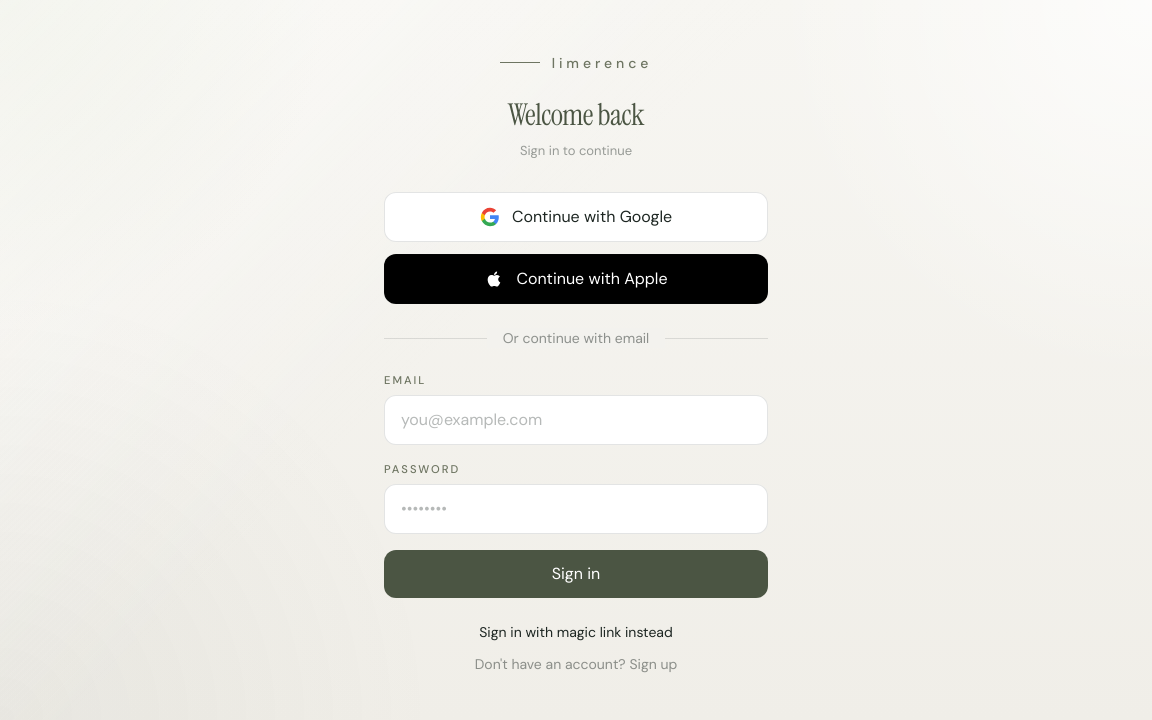
Scenario: LoginPage › shows password entry in sign-up mode
This screenshot has width=1152, height=720.
Click the button "Sign up": (653, 664) [630, 654, 677, 674]
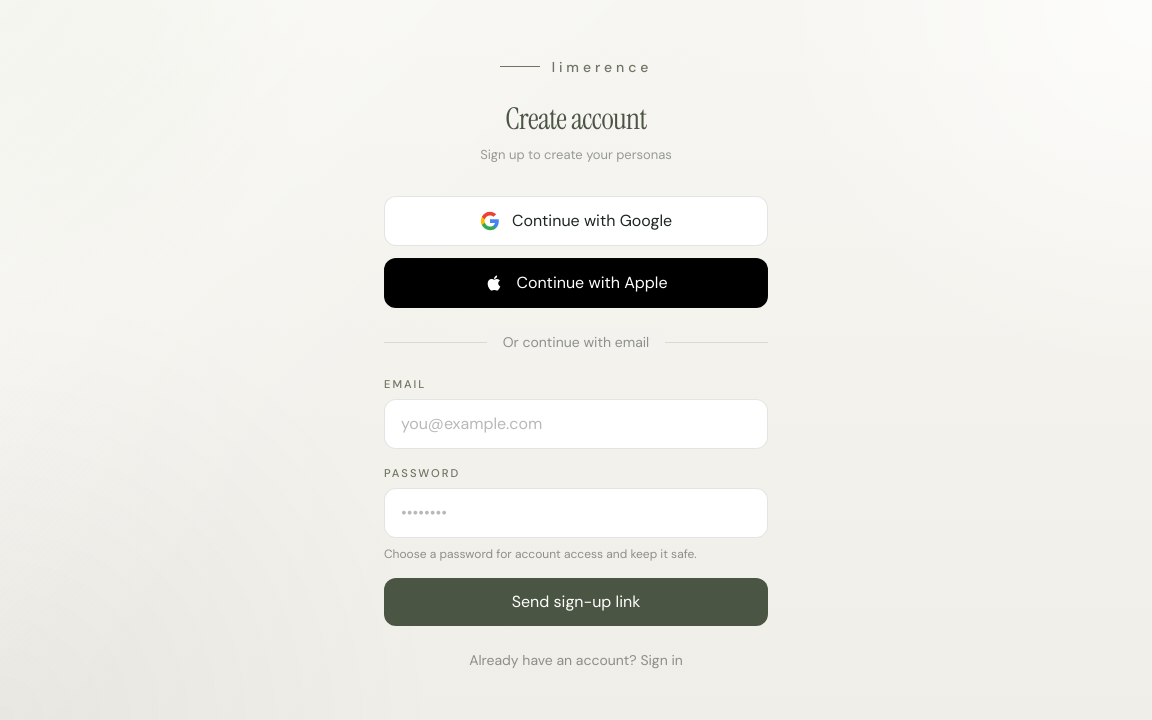
Expected: the password field labelled "Password" is shown, [384, 488, 768, 538]
Result: the heading "Create account" is shown at [505, 99, 647, 138]
Result: the button "Send sign-up link" is shown at [384, 578, 768, 626]
